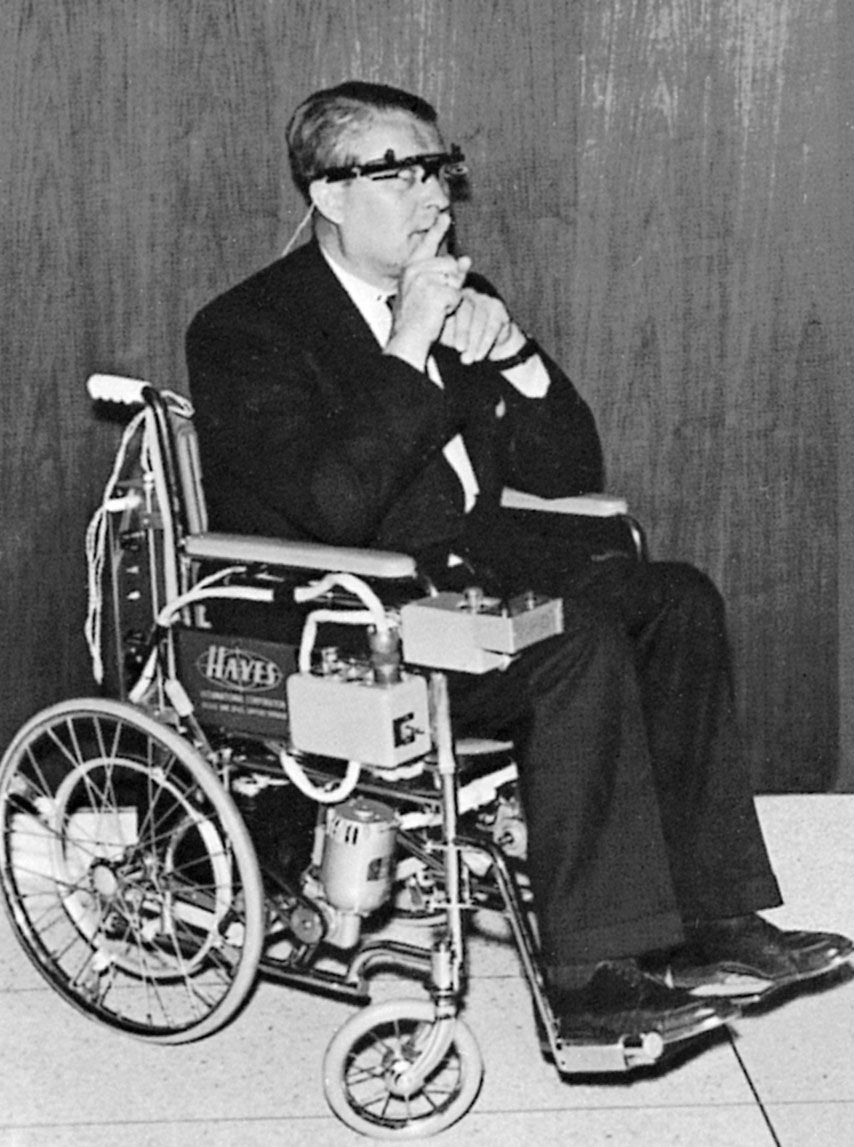wheelchair: (4, 77, 854, 1132)
